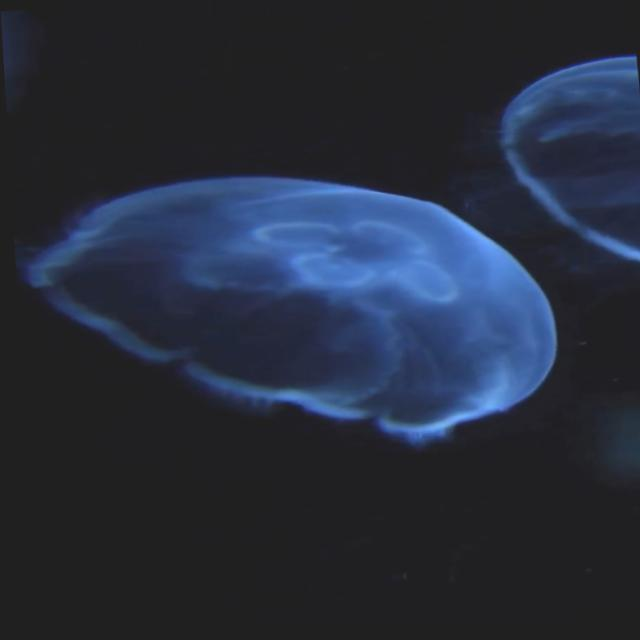Moon-jellyfish: (11, 175, 550, 447), (493, 57, 640, 274)
